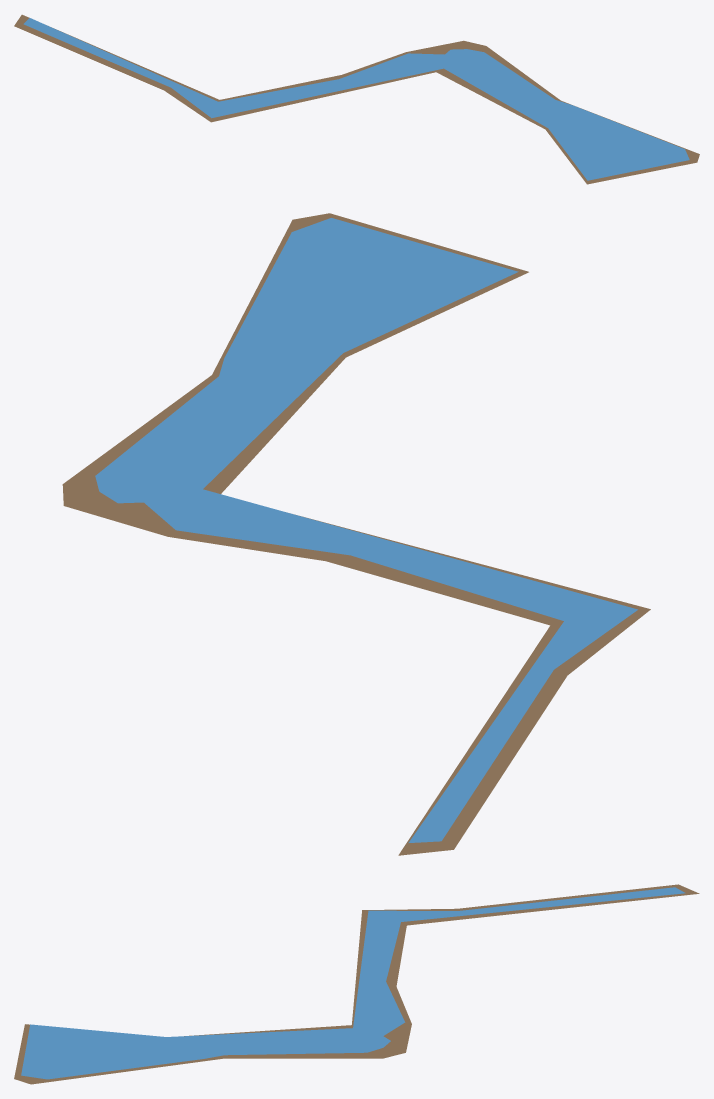
File: river_block_3.gltf
3 renders of one model, top to bottom at view 1: azimuth 30°, elevation 25°; view 2: azimuth 150°, elevation 25°; view 3: azimuth 270°, elevation 25°, orthographic. The views are drawn at different scales.
Visible parts, largest first — view 1: Shape, Shape 2; view 2: Shape, Shape 2; view 3: Shape, Shape 2.
Part boxes in pixels (left/top/right/bottom): Shape: left=23, top=18, right=689, bottom=180; Shape 2: left=14, top=14, right=699, bottom=184; Shape: left=95, top=218, right=637, bottom=842; Shape 2: left=62, top=213, right=650, bottom=855; Shape: left=21, top=887, right=685, bottom=1079; Shape 2: left=14, top=884, right=699, bottom=1084.
Size of the model in its own units: 26.86 by 0.0784 by 38.91.
